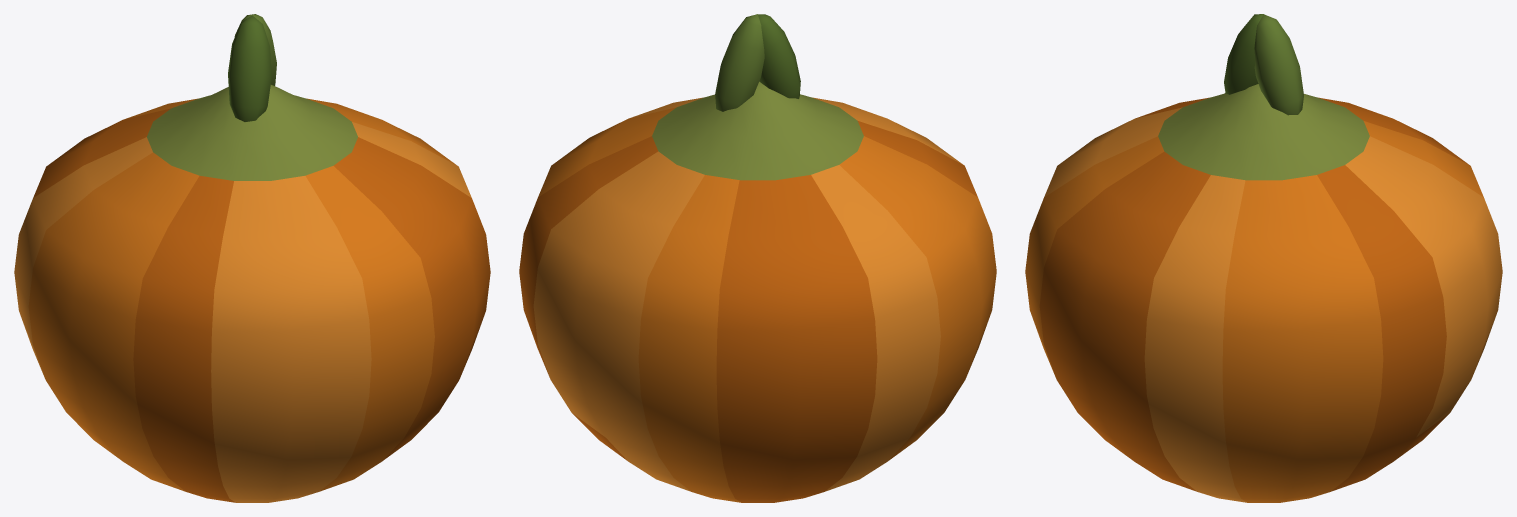
File: Pumpkin.glb
3 renders of one model, left to right at view 1: azimuth 30°, elevation 25°; view 2: azimuth 150°, elevation 25°; view 3: azimuth 270°, elevation 25°, orthographic.
Visible parts, largest first — view 1: Pumpkin; view 2: Pumpkin; view 3: Pumpkin.
Boxes of the visible parts, x1,y1,x2,y2 form: Pumpkin: [14, 14, 490, 502]; Pumpkin: [519, 14, 996, 502]; Pumpkin: [1025, 14, 1502, 502].
Size of the model in its own units: 0.581 by 0.6417 by 0.59.
